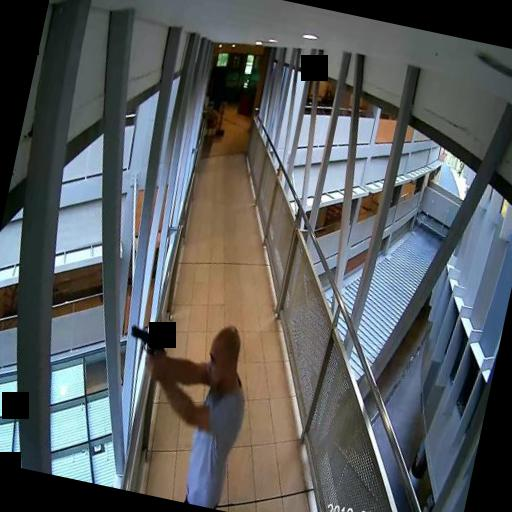Handgun: (122, 323, 166, 372)
